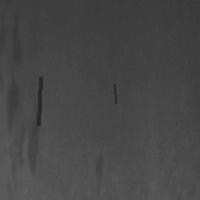inclusion: (2, 9, 42, 188), (91, 150, 115, 194), (36, 75, 42, 127), (112, 82, 117, 105)
